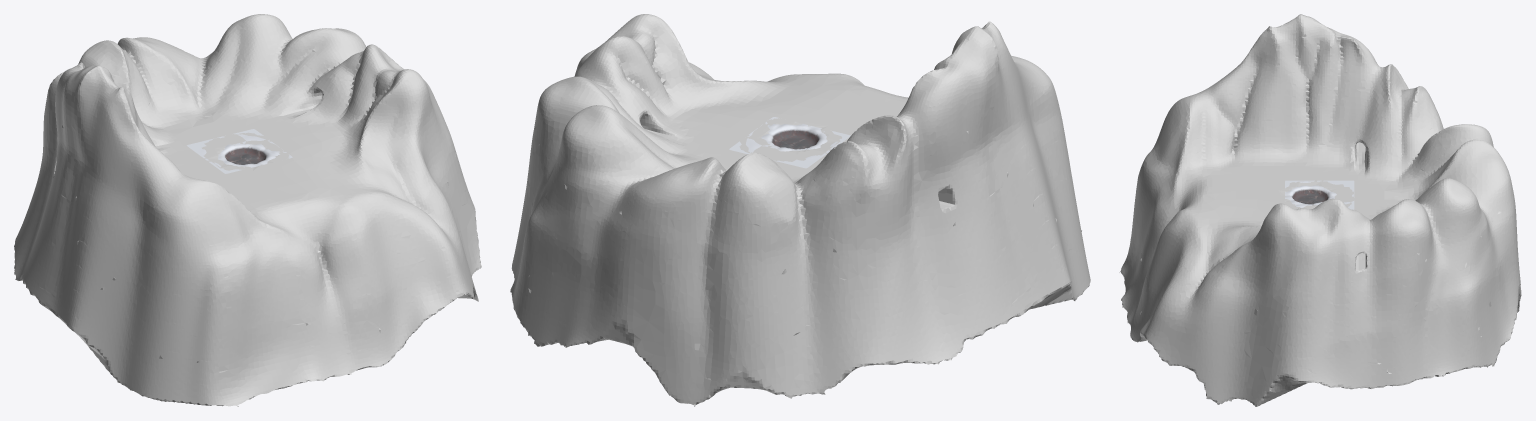
The model's file is Environment.fbx.
3 renders of one model, left to right at view 1: azimuth 30°, elevation 25°; view 2: azimuth 150°, elevation 25°; view 3: azimuth 270°, elevation 25°, orthographic. The views are drawn at different scales.
Parts seen in each view (by area): view 1: Landscape_low, level_low; view 2: Landscape_low, level_low; view 3: Landscape_low, level_low.
Part boxes in pixels (left/top/right/bottom): Landscape_low: left=14, top=14, right=481, bottom=406; level_low: left=187, top=129, right=292, bottom=173; Landscape_low: left=510, top=14, right=1090, bottom=406; level_low: left=729, top=117, right=850, bottom=168; Landscape_low: left=1119, top=14, right=1521, bottom=406; level_low: left=1285, top=180, right=1354, bottom=209.
Size of the model in its own units: 8230 by 5153 by 7592.
